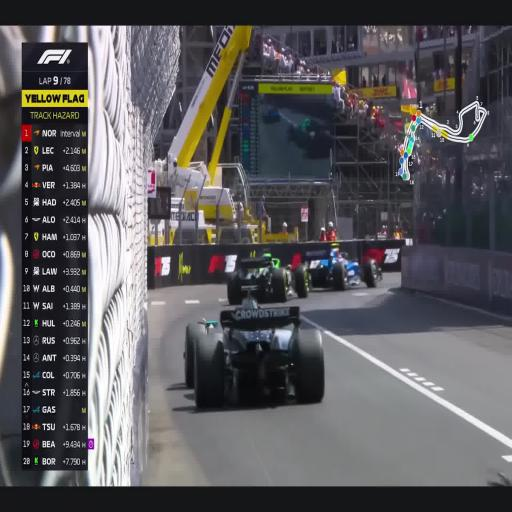f1_car: (184, 298, 324, 408), (227, 253, 310, 305), (306, 243, 382, 290)
